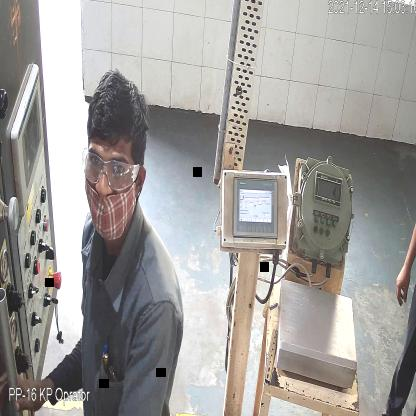goggles: (83, 147, 140, 193)
